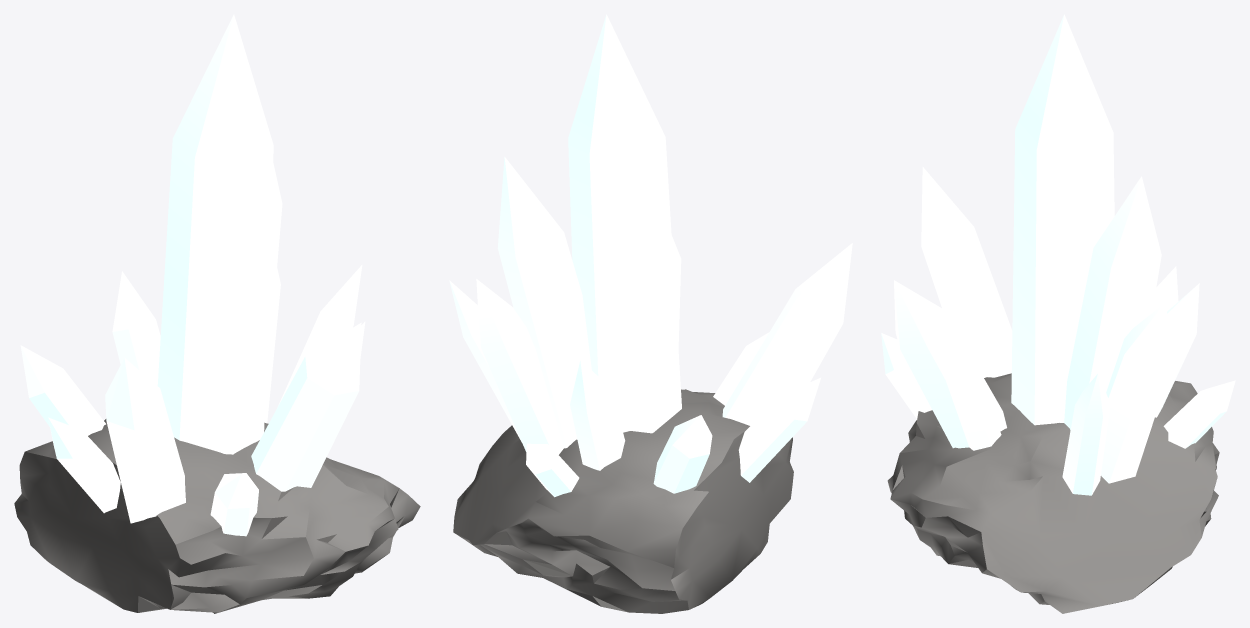
File: SampleCrystal.fbx
The picture shows the model from 3 angles, left to right: view 1: azimuth 30°, elevation 25°; view 2: azimuth 150°, elevation 25°; view 3: azimuth 270°, elevation 25°; orthographic projection. The views are drawn at different scales.
Parts seen in each view (by area): view 1: Sample_Crystal, Sample_Base; view 2: Sample_Crystal, Sample_Base; view 3: Sample_Crystal, Sample_Base.
Boxes of the visible parts, box(x1,y1,x2,y2) form: Sample_Crystal: box(20, 14, 365, 536); Sample_Base: box(14, 419, 420, 613); Sample_Crystal: box(449, 14, 852, 497); Sample_Base: box(453, 389, 793, 613); Sample_Crystal: box(881, 14, 1235, 495); Sample_Base: box(887, 373, 1219, 613).
Size of the model in its own units: 0.7533 by 1.1 by 0.662.
